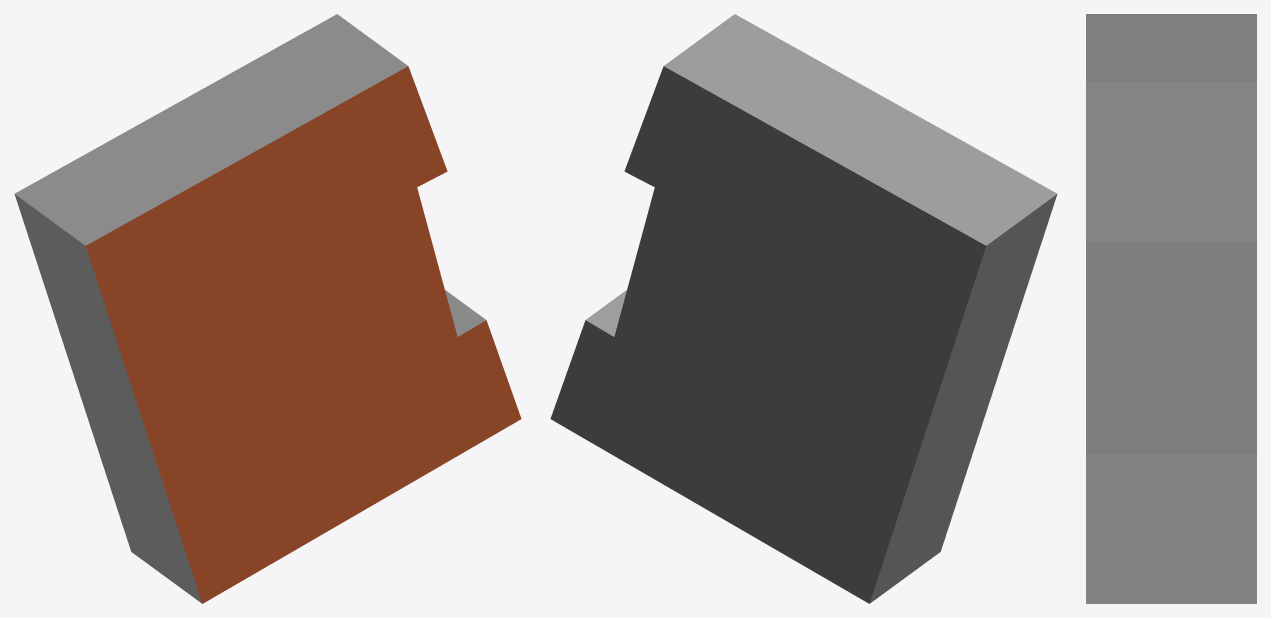
The model's file is construction_6966_assumed_A_Casa_h6m.obj.
The picture shows the model from 3 angles, left to right: view 1: azimuth 30°, elevation 25°; view 2: azimuth 150°, elevation 25°; view 3: azimuth 270°, elevation 25°; orthographic projection. The views are drawn at different scales.
Visible parts, largest first — view 1: construction_6966_assumed_A_Casa; view 2: construction_6966_assumed_A_Casa; view 3: construction_6966_assumed_A_Casa.
Boxes of the visible parts, bbox=[...] form: construction_6966_assumed_A_Casa: bbox=[14, 14, 521, 603]; construction_6966_assumed_A_Casa: bbox=[550, 14, 1057, 603]; construction_6966_assumed_A_Casa: bbox=[1086, 14, 1256, 603].
Size of the model in its own units: 21.2 by 22.67 by 6.
